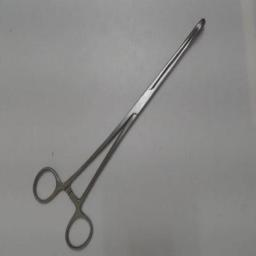Sponge Forceps: (28, 12, 212, 254)
